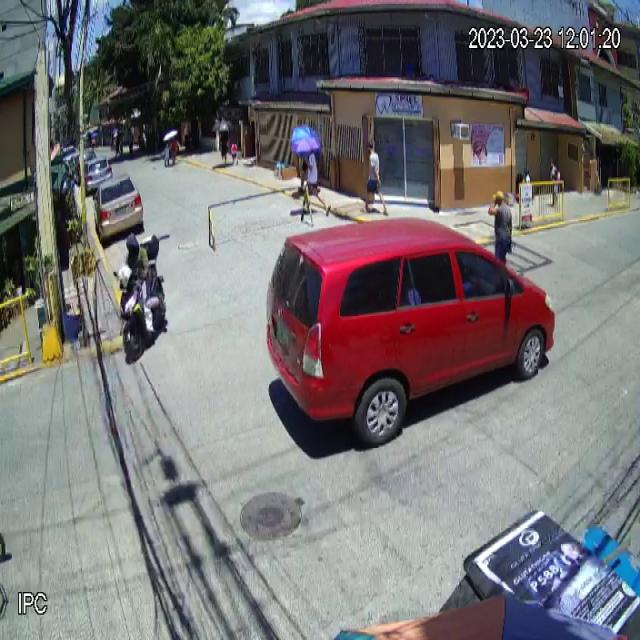Car: (260, 221, 553, 436)
Motorcycle: (114, 236, 167, 364)
